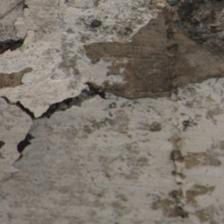Crack: (4, 81, 114, 124)
